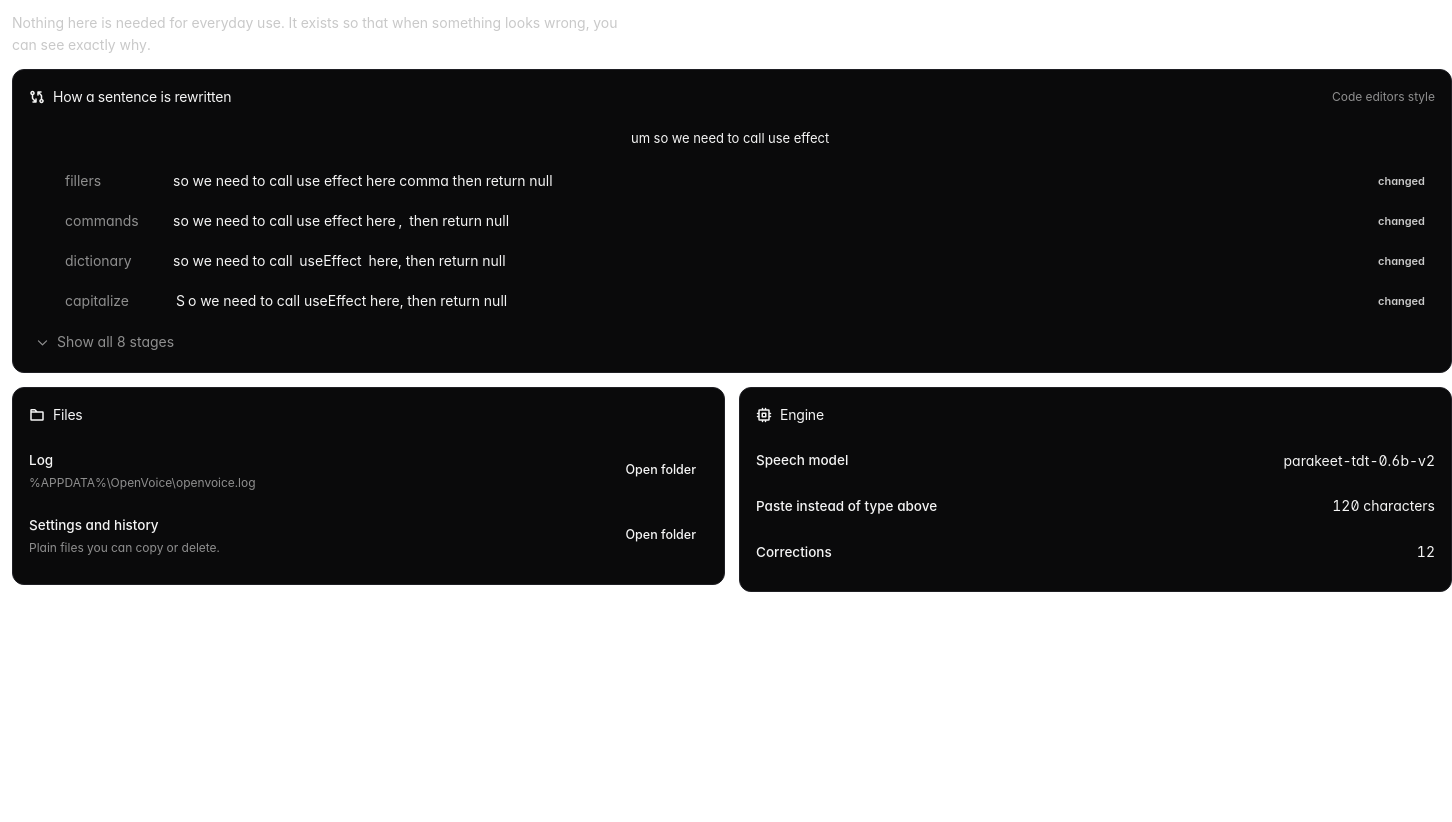
Test: Advanced screen › names every stage the formatter ran once the rail is opened
Click the button "Show all 8 stages". click: (107, 342)
box: top-left (29, 328), bottom-right (184, 356)
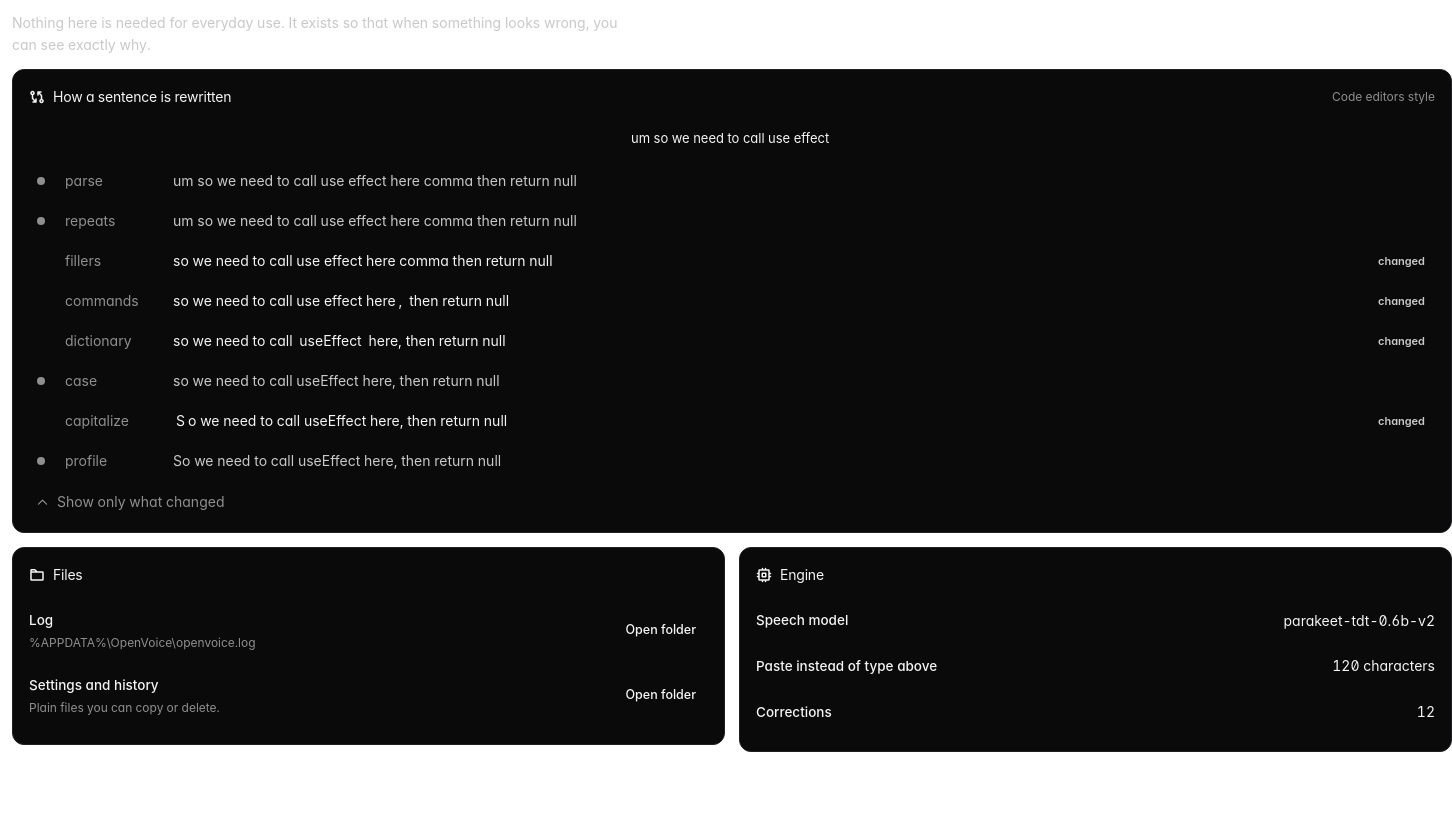
Now the button "Show only what changed" is expanded, box top-left (29, 488), bottom-right (234, 516)
